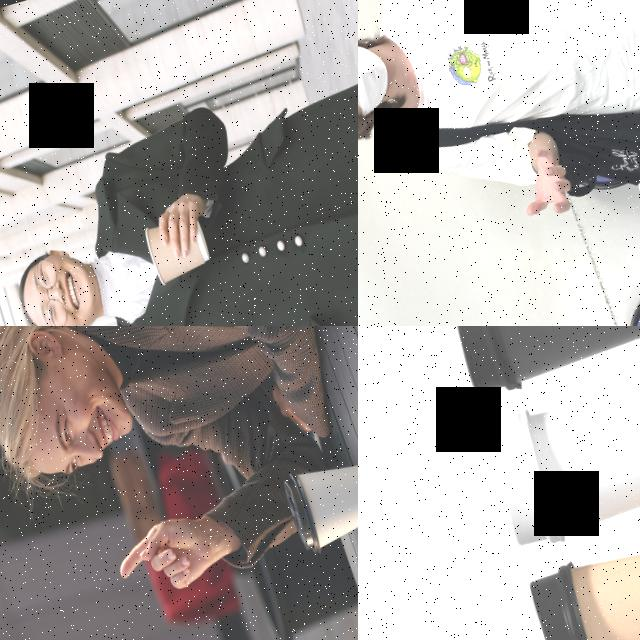cup: (477, 331, 640, 556), (523, 483, 640, 640), (434, 326, 640, 402), (275, 446, 358, 559), (139, 204, 215, 290)
